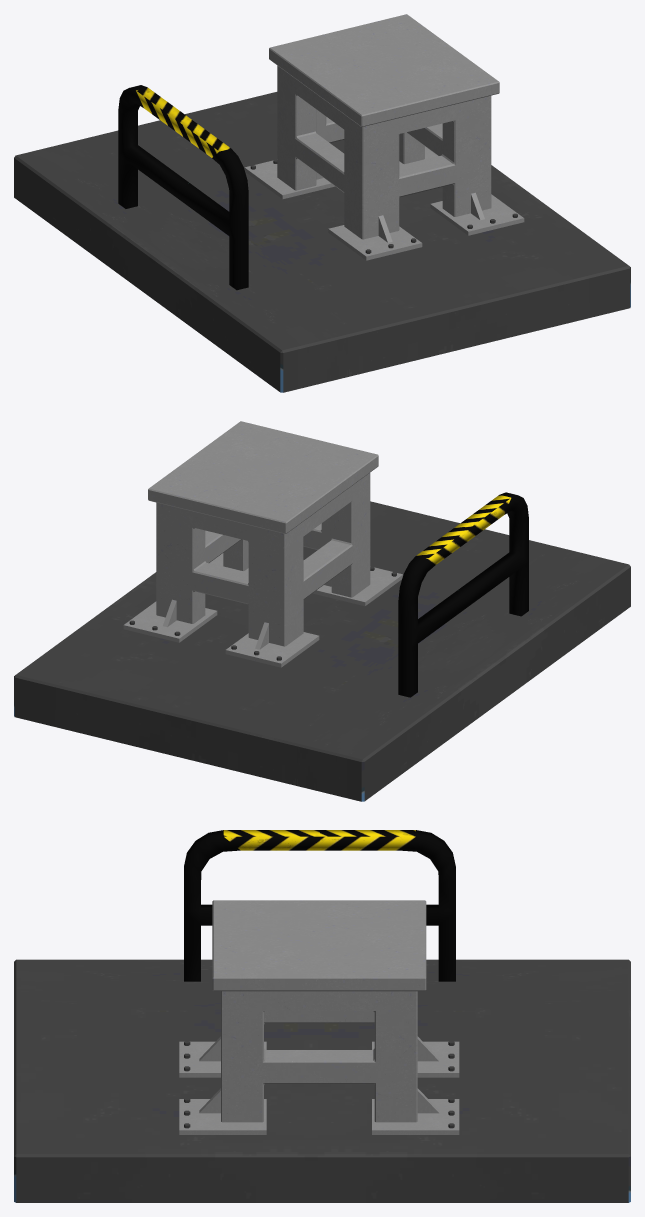
The model's file is robot_arm_place_v2.glb.
The picture shows the model from 3 angles, top to bottom: view 1: azimuth 30°, elevation 25°; view 2: azimuth 150°, elevation 25°; view 3: azimuth 270°, elevation 25°; orthographic projection. The views are drawn at different scales.
Parts seen in each view (by area): view 1: robot_arm_place.001; view 2: robot_arm_place.001; view 3: robot_arm_place.001.
Part boxes in pixels (box(x1,y1,x2,y2)): robot_arm_place.001: box(14, 14, 630, 392); robot_arm_place.001: box(14, 421, 630, 801); robot_arm_place.001: box(14, 830, 630, 1202).
Size of the model in its own units: 2.69 by 1.28 by 3.57.
Materials: 2 (2 with a texture image).
